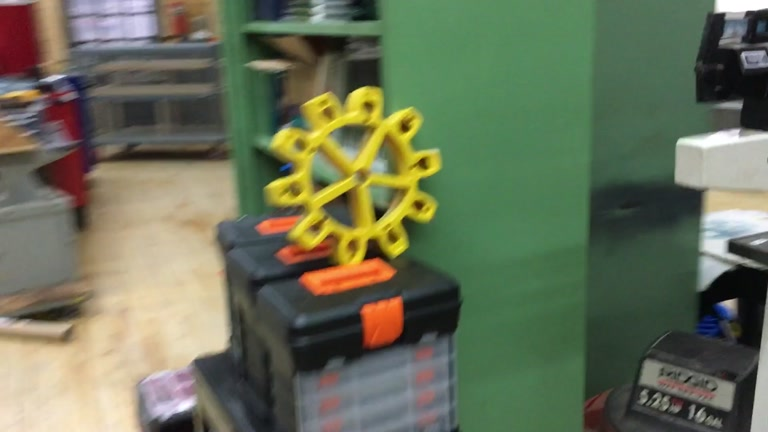gear: (264, 85, 444, 268)
